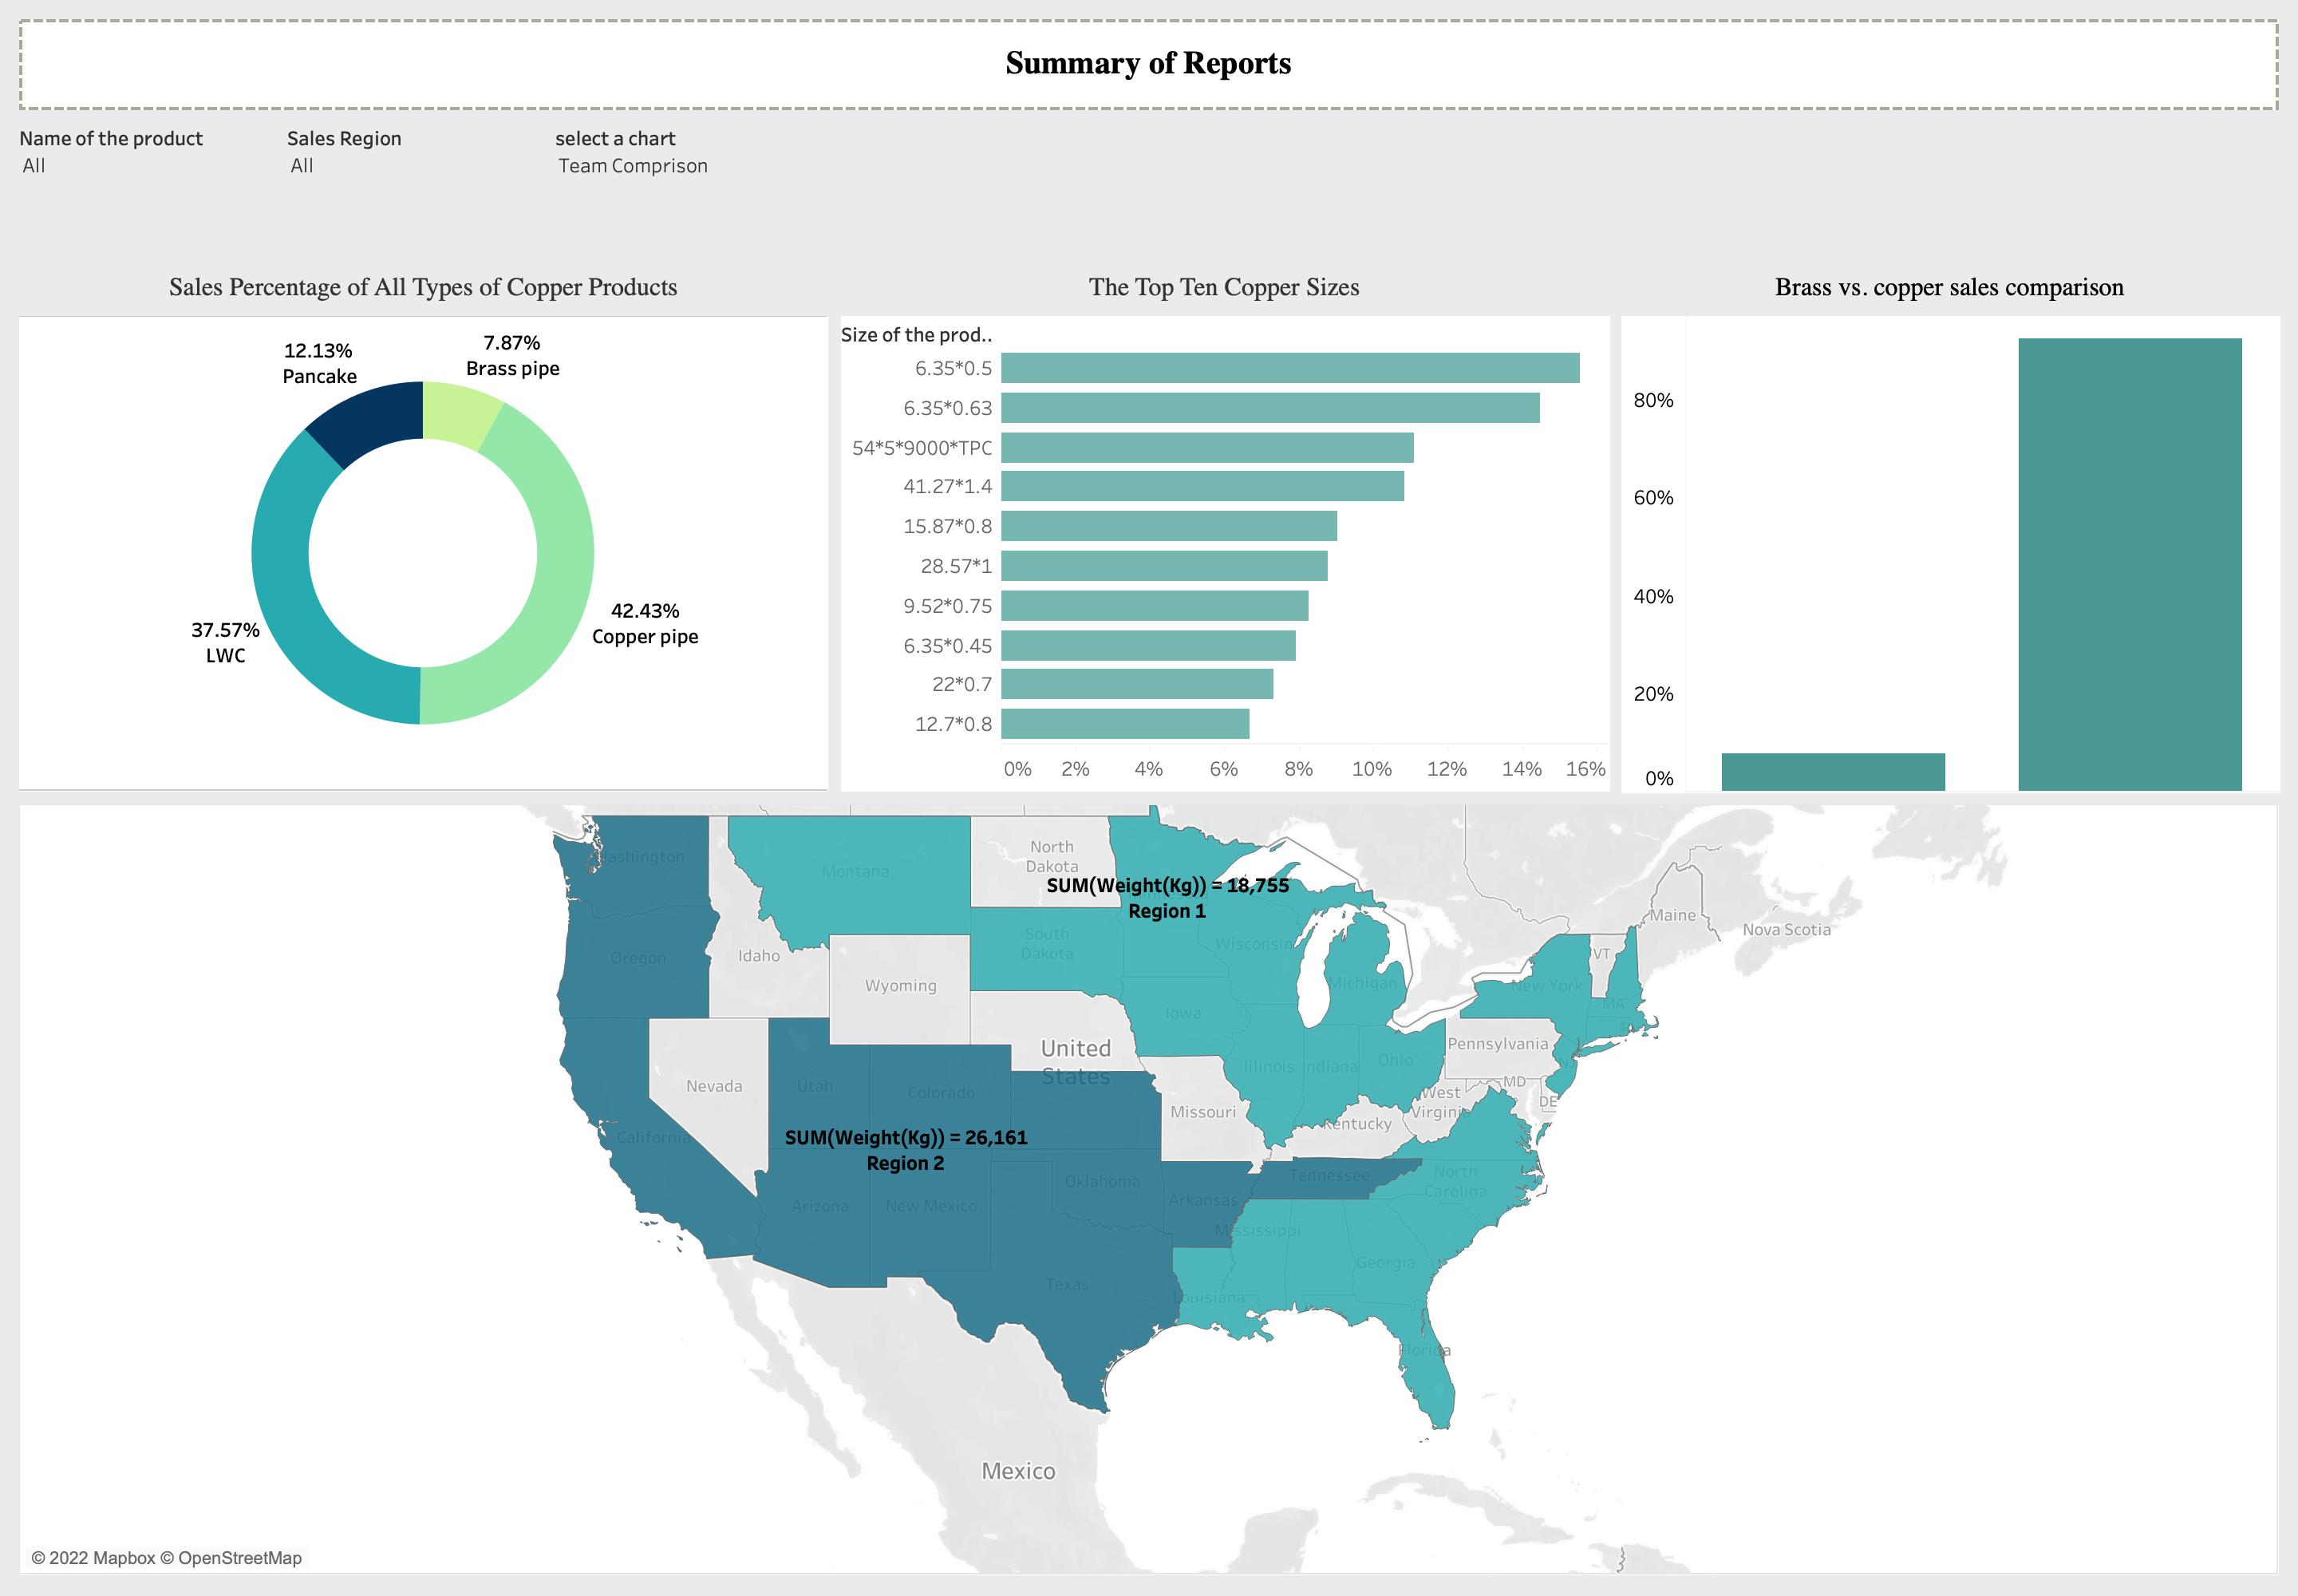

This screenshot's page, from the dashboard's own definition file:
{"tool":"tableau","page":{"name":"graphic dashboard","canvas":[1440,1000],"ordinal":2},"visuals":[{"type":"title","box":[8,8,1424,65]},{"type":"image","param":"Image/WhatsApp-Image-2021-10-16-at-13.46.27.jpeg","box":[24,20,187,43]},{"type":"filter","title":"Sales percentage of all types of products","param":"[federated.040wakw0vfb6zh15vo4xj15bz8n3].[none:Name of the product:nk]","box":[8,73,168,52]},{"type":"filter","title":"Sales percentage of all types of products","param":"[federated.040wakw0vfb6zh15vo4xj15bz8n3].[none:Sales Region:nk]","box":[176,73,168,52]},{"type":"parameter","param":"[Parameters].[Parameter 1]","box":[344,73,1088,52]},{"type":"worksheet","title":"Sales percentage of all types of products","mark":"Pie","rows":["Calculation_1042724052904931330","Calculation_1042724052904931330"],"box":[8,163,514.7,337]},{"type":"worksheet","title":"The most popular sizes","mark":"Automatic","rows":["Size of the product"],"box":[522.7,163,489.5,337]},{"type":"worksheet","title":"Sales volume Based on product","mark":"Automatic","cols":["Type of the product"],"box":[1012.2,163,419.8,337]},{"type":"worksheet","title":"Team Comparison","mark":"Multipolygon","box":[8,500,1424,491]},{"type":"worksheet","title":"Sate Revenue","mark":"Automatic","box":[8,991,1424,1]}]}

Visuals, with their boxes in screenshot pixels (x1, y1, x2, y2), scaled from the page's 1440x1000 canvas onto the 2298x1596 screenshot:
title: 13/13/2285/117
image: 38/32/337/101
"Sales percentage of all types of products" filter: 13/117/281/199
"Sales percentage of all types of products" filter: 281/117/549/199
parameter: 549/117/2285/199
"Sales percentage of all types of products" worksheet (Pie marks): 13/260/834/798
"The most popular sizes" worksheet: 834/260/1615/798
"Sales volume Based on product" worksheet: 1615/260/2285/798
"Team Comparison" worksheet (Multipolygon marks): 13/798/2285/1582
"Sate Revenue" worksheet: 13/1582/2285/1583
